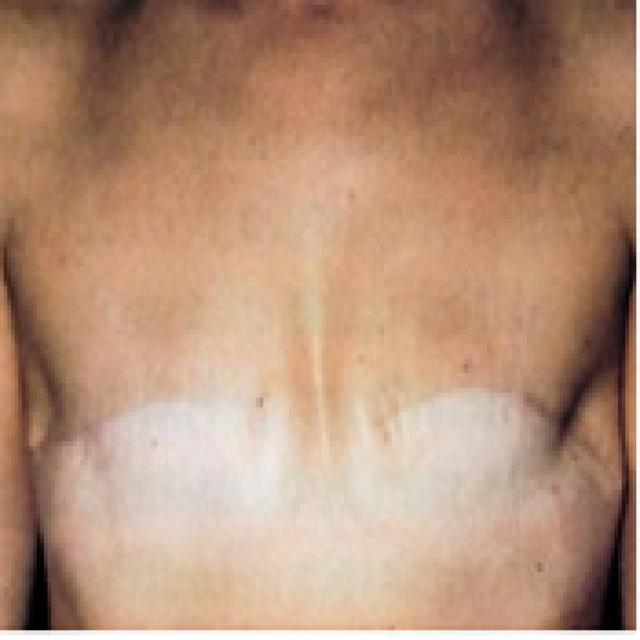Seno herido: (25, 287, 322, 583), (330, 290, 628, 585)
